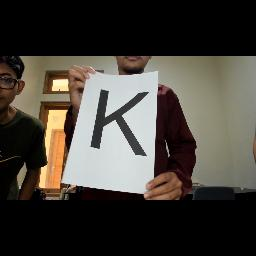k: (80, 83, 160, 163)
